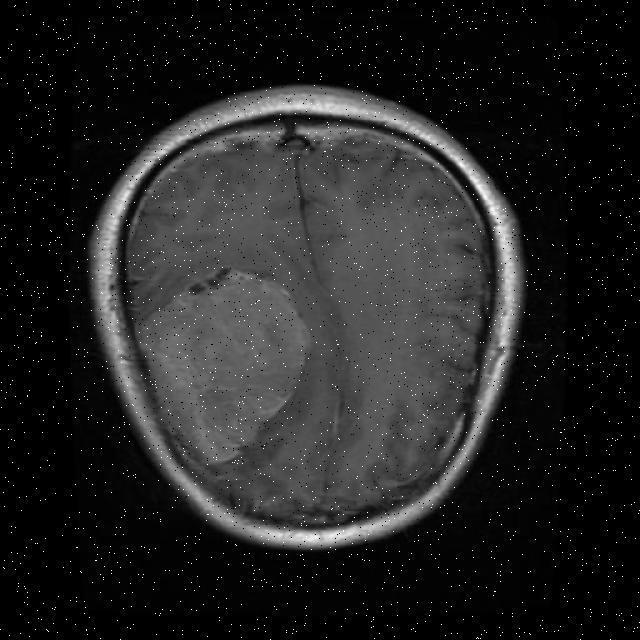Meningioma: (140, 271, 308, 462)
